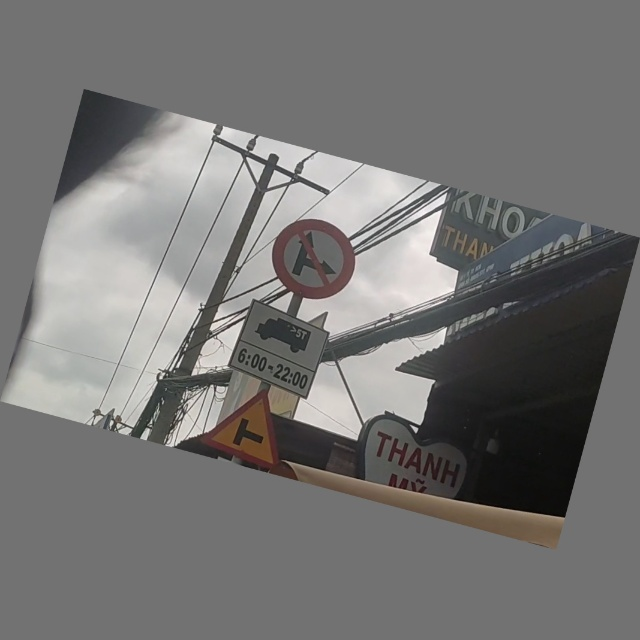P.139: (265, 210, 364, 309)
S.505a*Xe tai: (229, 298, 328, 395)
W.205b: (206, 382, 297, 468)
